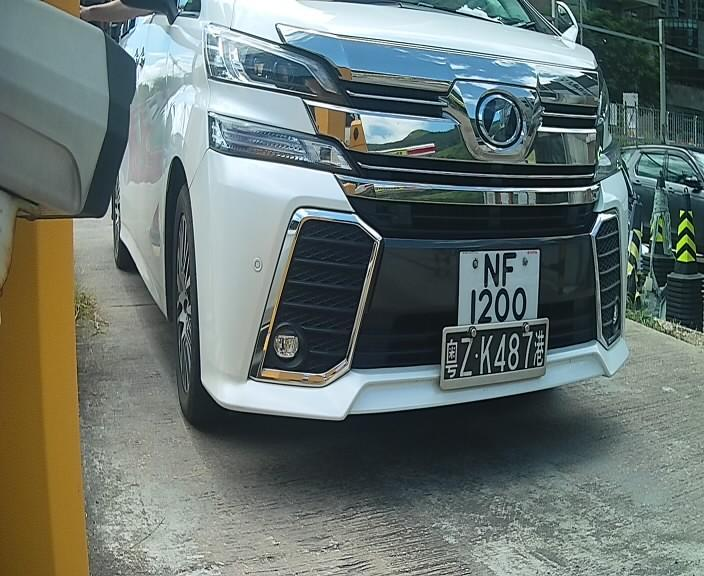License Plate: (447, 237, 551, 348)
